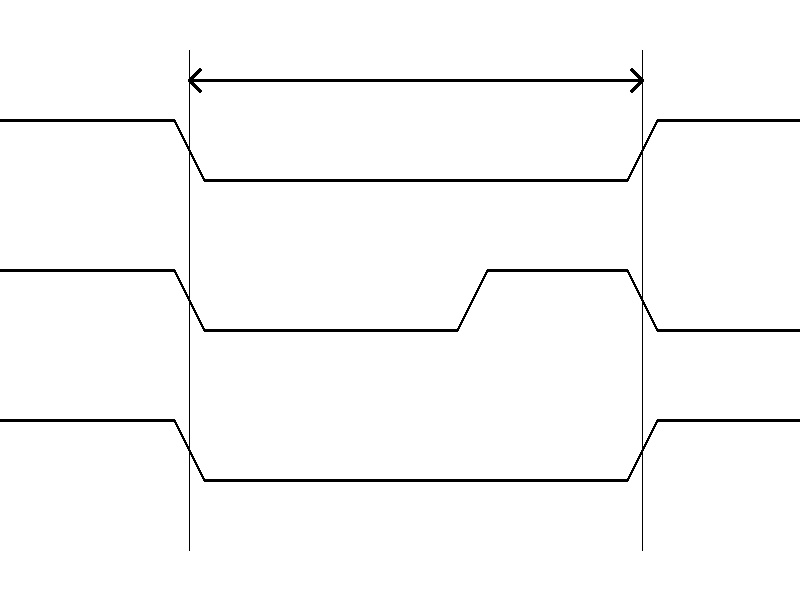double_arrow: (189, 65, 642, 95)
